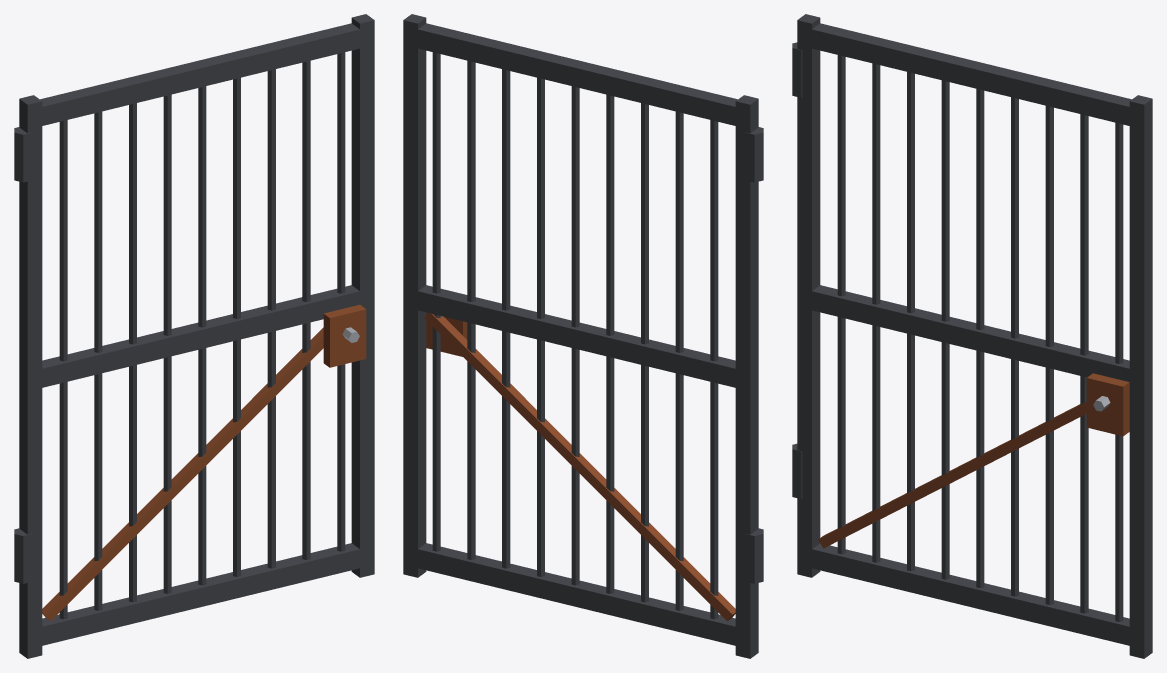
The model's file is mine_gate_bars.glb.
3 renders of one model, left to right at view 1: azimuth 30°, elevation 25°; view 2: azimuth 150°, elevation 25°; view 3: azimuth 330°, elevation 25°, orthographic.
Visible parts, largest first — view 1: mine_gate_bars; view 2: mine_gate_bars; view 3: mine_gate_bars.
Boxes of the visible parts, x1,y1,x2,y2 form: mine_gate_bars: (14,14,374,658); mine_gate_bars: (403,14,763,658); mine_gate_bars: (792,14,1152,658).
Size of what is drawn, in the model's own units: 1.95 by 2.9 by 0.2033.
